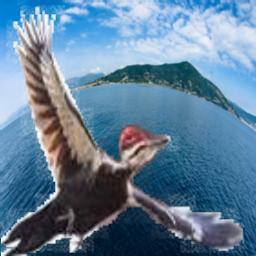Woodpecker: (1, 0, 244, 256)
